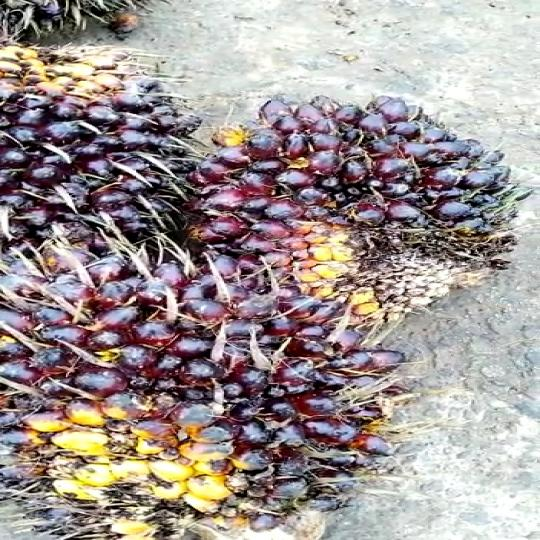kurang masak: (0, 272, 402, 540), (212, 93, 540, 324), (0, 19, 234, 282)
